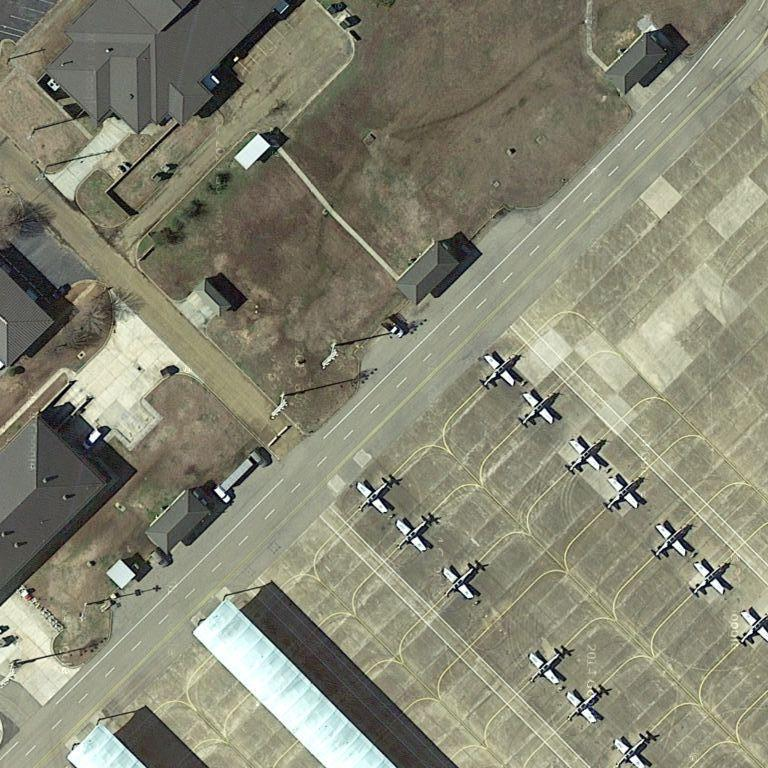plane: (685, 557, 734, 604), (600, 471, 646, 520), (647, 518, 694, 565), (477, 349, 525, 394), (563, 683, 609, 728), (393, 512, 439, 557), (514, 387, 559, 432), (526, 643, 570, 689), (562, 434, 606, 479), (441, 560, 483, 605), (609, 731, 657, 768), (353, 476, 395, 517), (730, 608, 765, 650)
